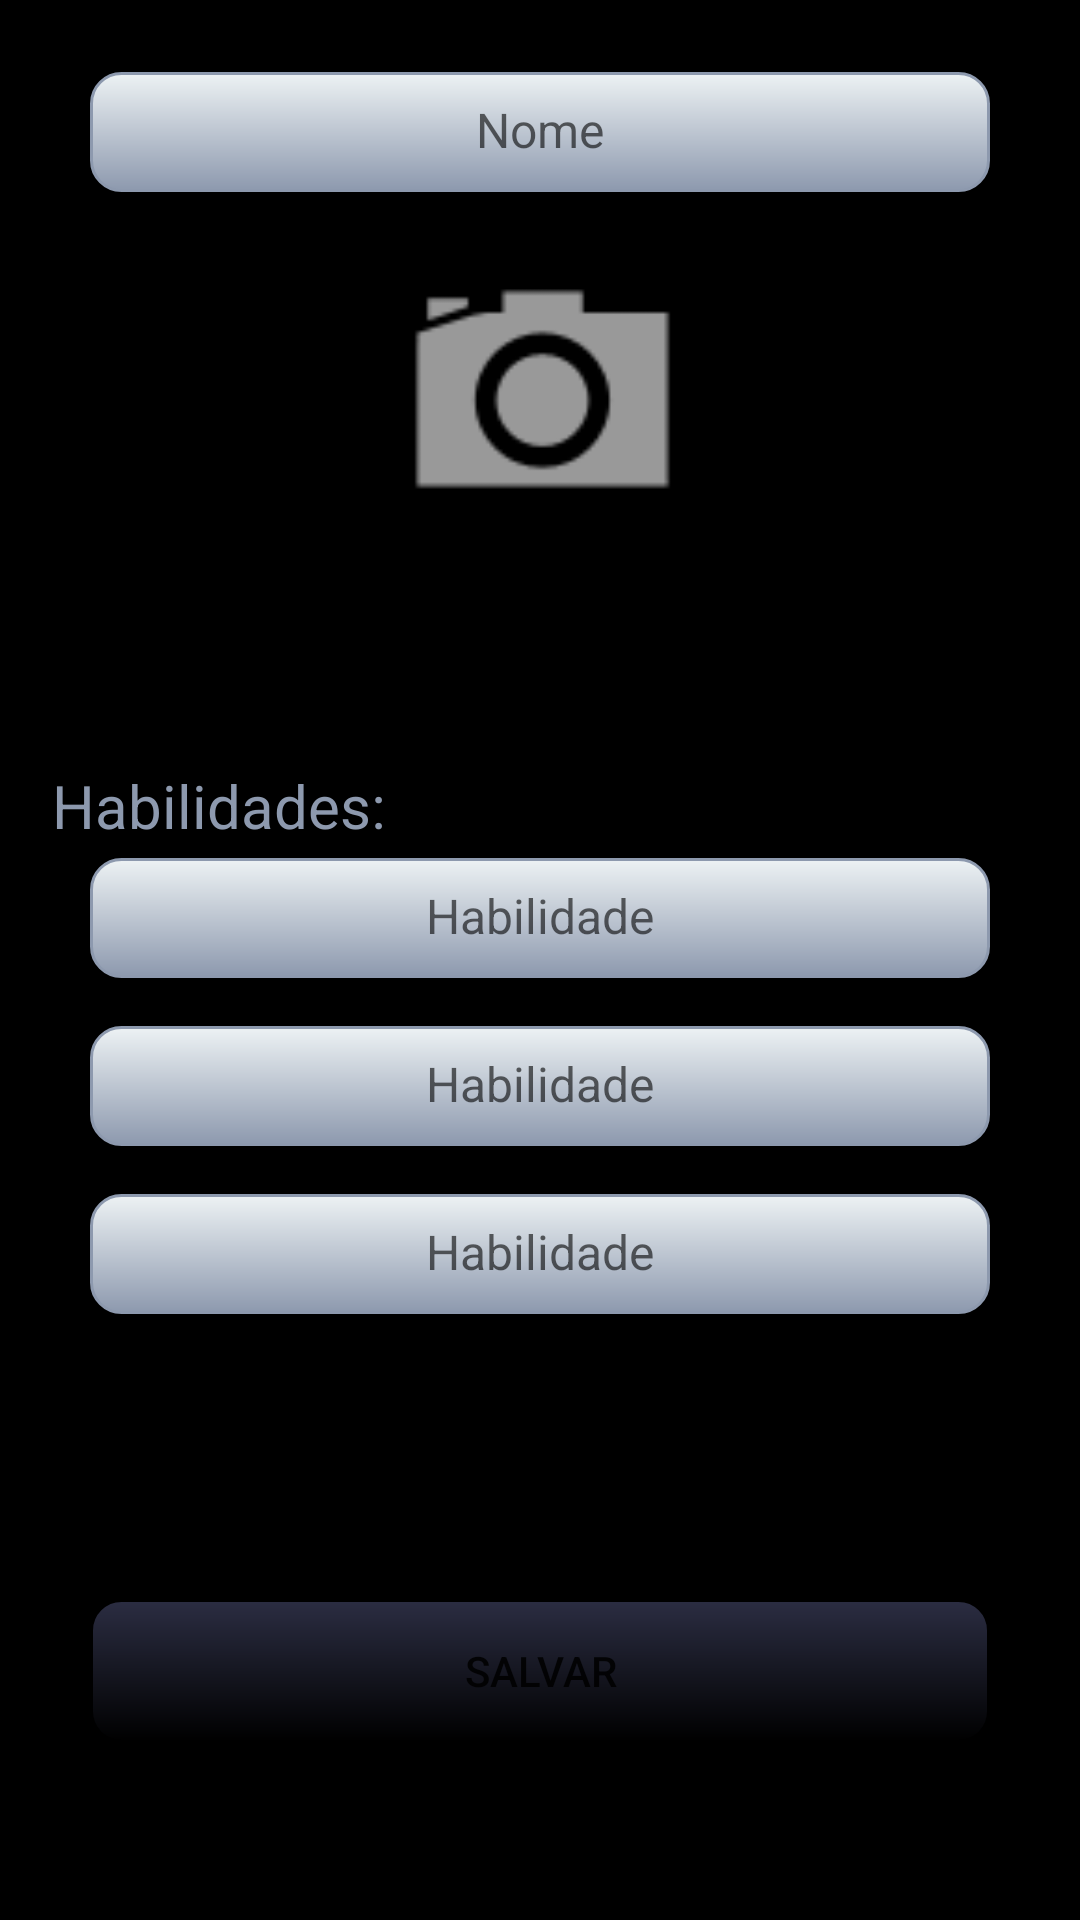

Icon click points for this 1080w x 1920h phone screenshot, format point (x, y):
camera: point (542, 388)
